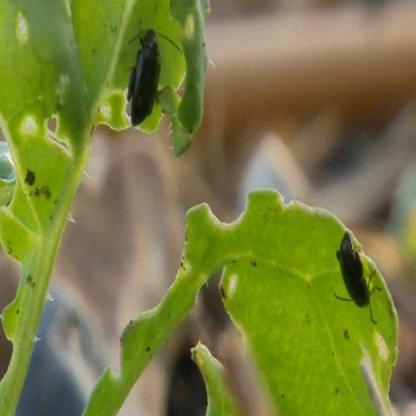beetle: (128, 10, 176, 132), (329, 231, 381, 320)
